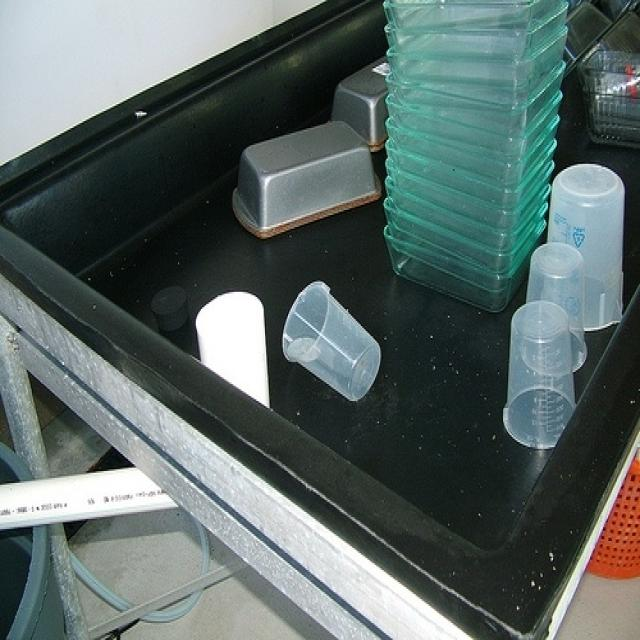Metal: (221, 66, 387, 248)
Plastics: (384, 0, 640, 299), (278, 271, 393, 413), (501, 293, 581, 447), (183, 288, 269, 399)
